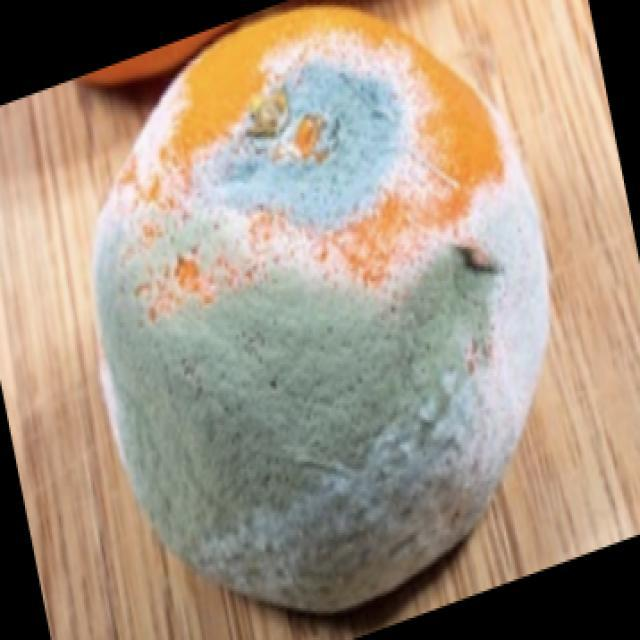sangat-busuk: (95, 5, 548, 612)
